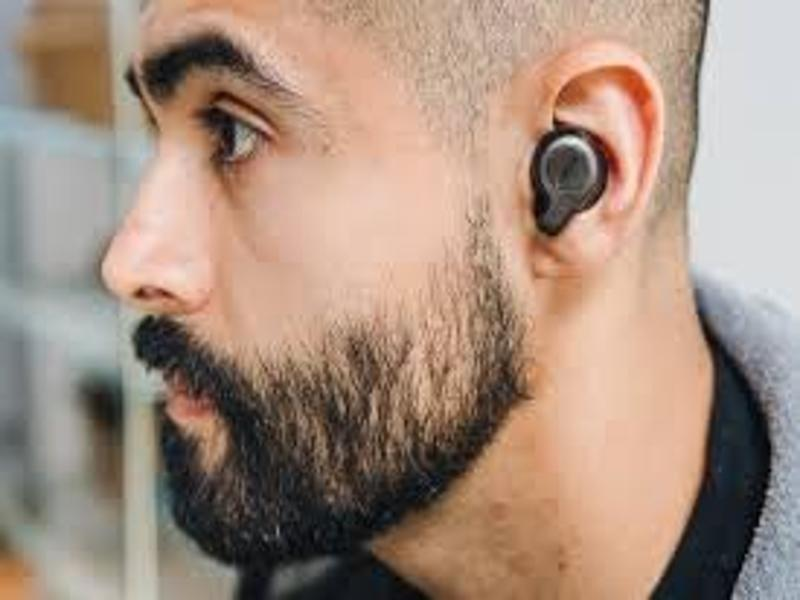headphone: (529, 125, 610, 237)
